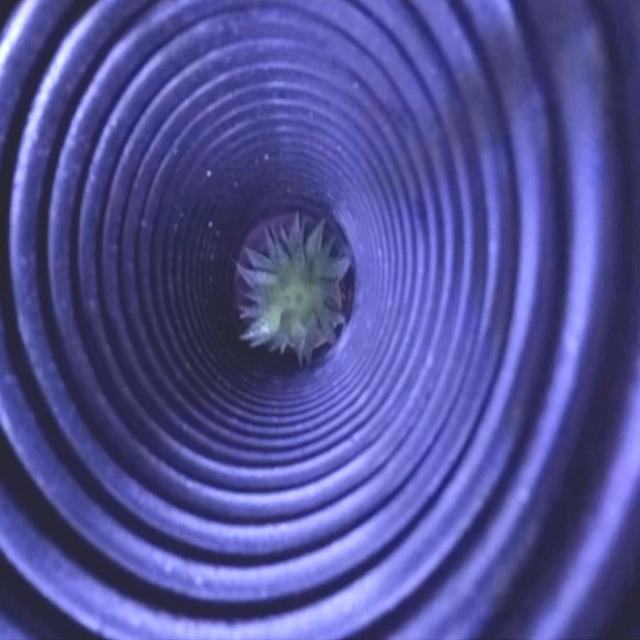leaf: (237, 213, 349, 365)
